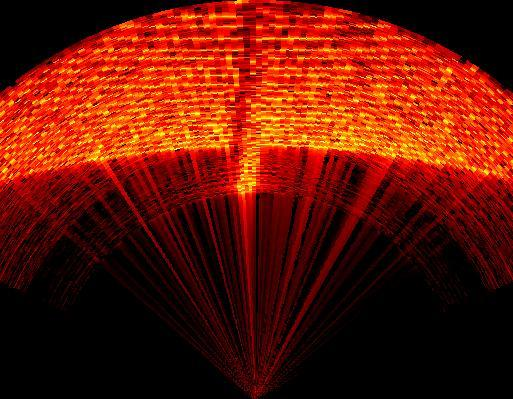pipe: (229, 2, 268, 161)
